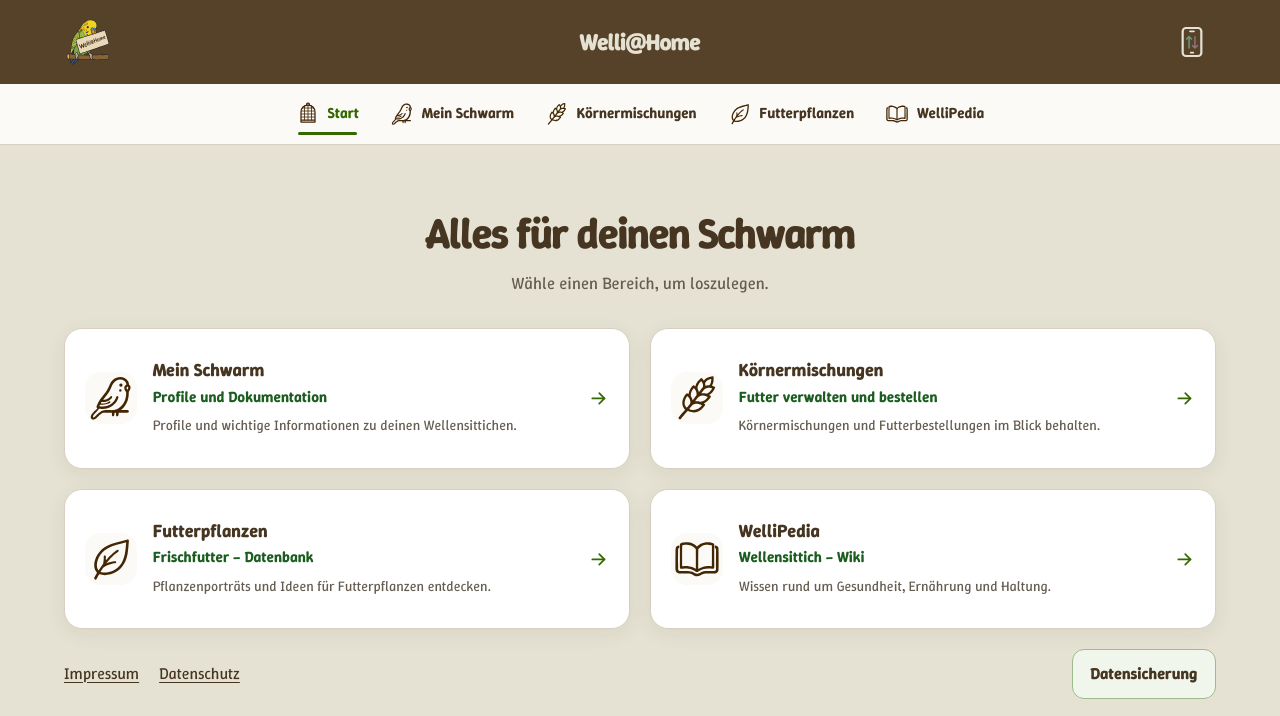
Rechtliche Informationsseiten › öffnet das Impressum mit den Anbieterangaben aus der verlinkten Vorlage
The image size is (1280, 716).
Expected: the heading "Alles für deinen Schwarm" is shown, x1=425 y1=205 x2=855 y2=261
What coordinates should you click on to do the following:
click the link "Impressum"
I would click on:
 (102, 673)
Its box is x1=64 y1=663 x2=139 y2=684.
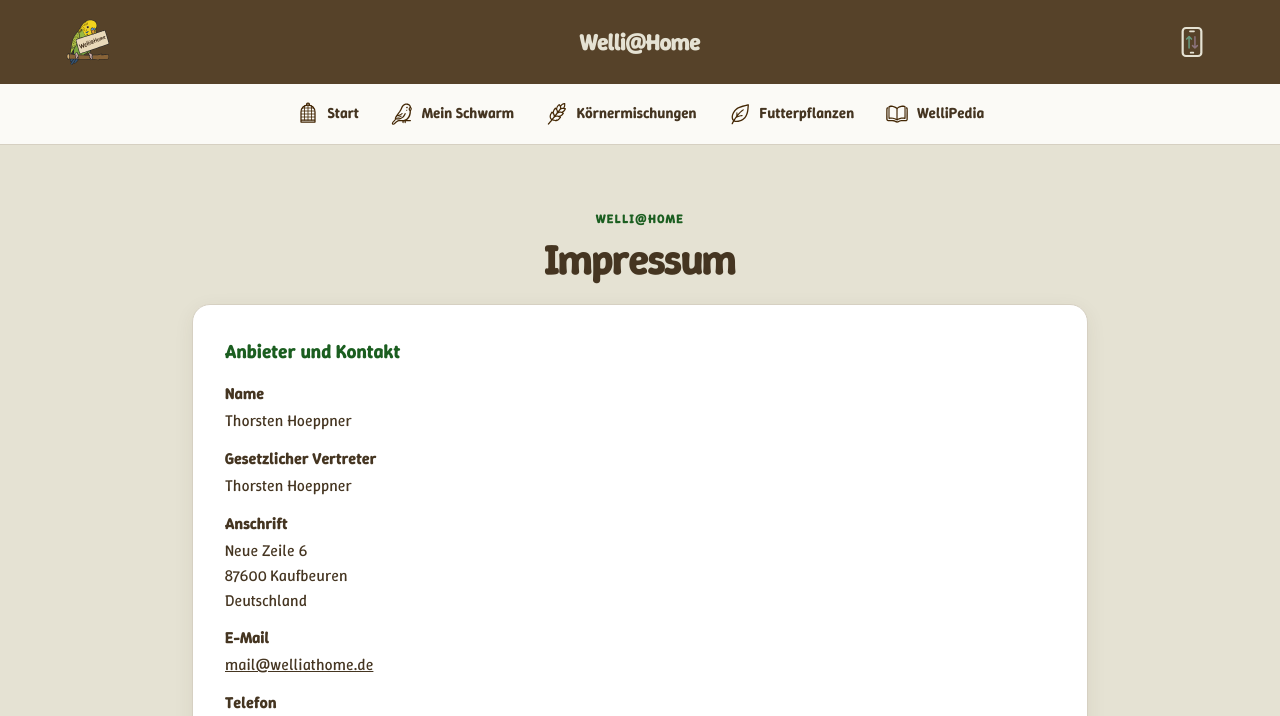
Expected: the heading "Impressum" is shown, x1=544 y1=231 x2=736 y2=287
Expected: the text "Thorsten Hoeppner" is shown 2 times, x1=225 y1=410 x2=352 y2=431; x1=225 y1=475 x2=352 y2=496
Expected: the link "mail@welliathome.de" is shown, x1=225 y1=654 x2=373 y2=675
